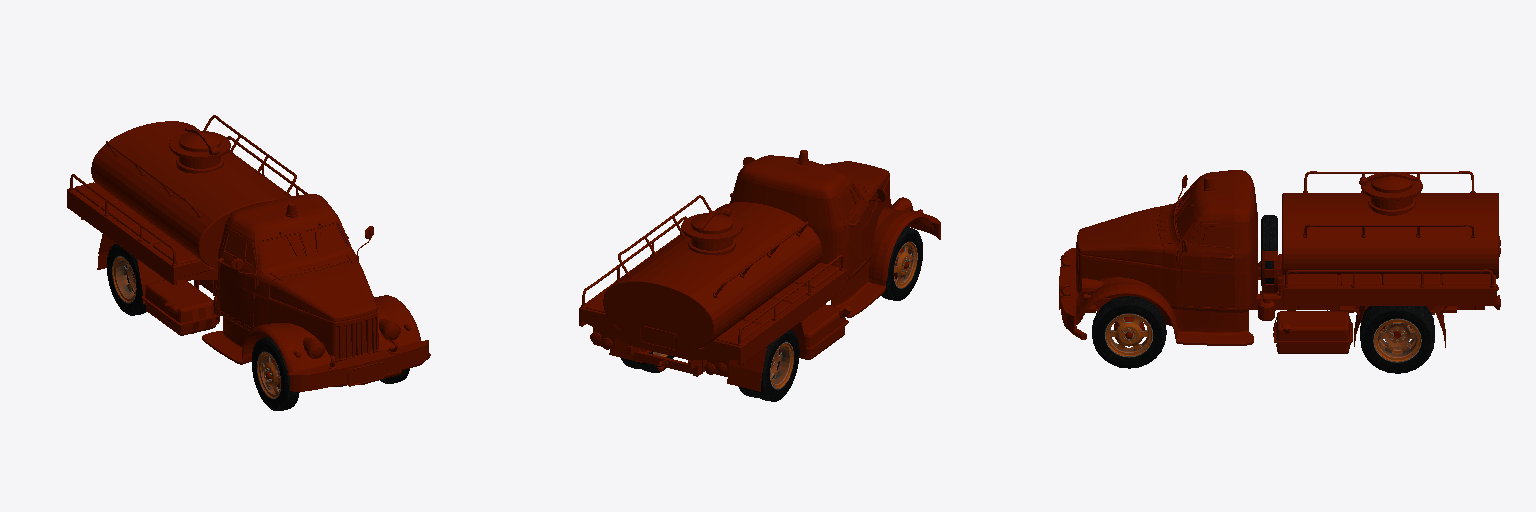
3 renders of one model, left to right at view 1: azimuth 30°, elevation 25°; view 2: azimuth 150°, elevation 25°; view 3: azimuth 270°, elevation 25°, orthographic.
Visible parts, largest first — view 1: Gaz51B_01_Cube.002; view 2: Gaz51B_01_Cube.002; view 3: Gaz51B_01_Cube.002.
Part boxes in pixels (left/top/right/bottom): Gaz51B_01_Cube.002: left=67, top=115, right=430, bottom=410; Gaz51B_01_Cube.002: left=579, top=150, right=940, bottom=401; Gaz51B_01_Cube.002: left=1059, top=170, right=1500, bottom=373.
Size of the model in its own units: 2.66 by 2.42 by 5.83.
Materials: 2 (1 with a texture image).